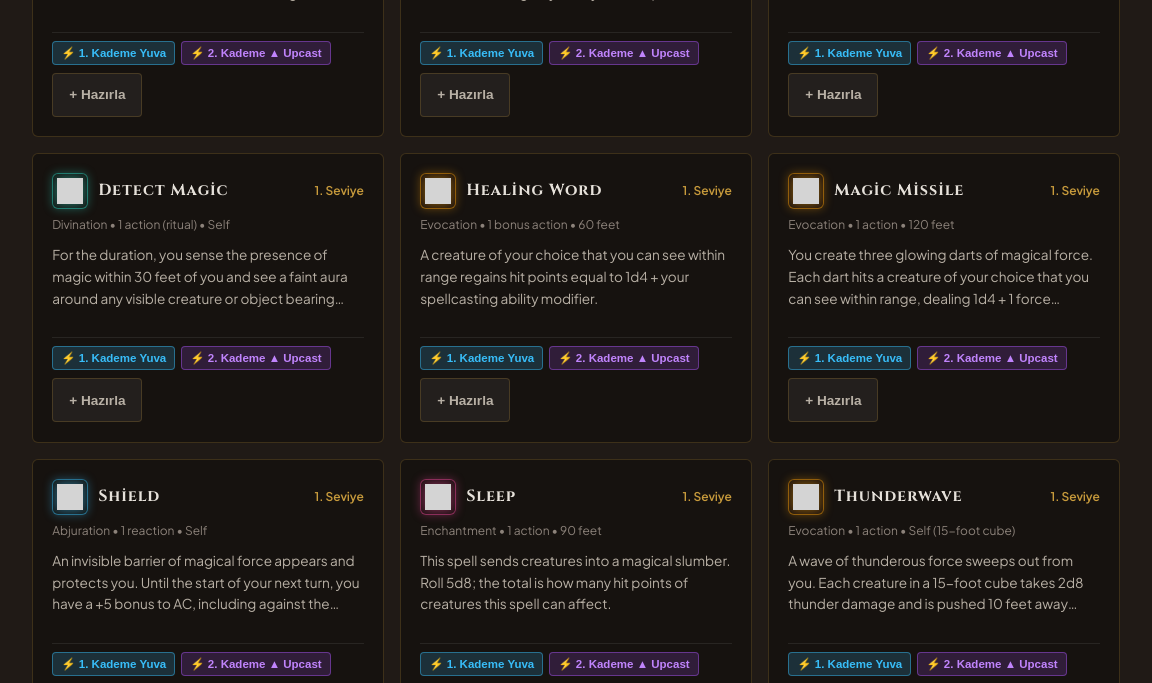
Spellbook Component › allows casting spells with available spell slot and expends the slot
(page scrolled)
Expected: the button with id "btn-cast-magic-missile-tier-2" is shown, top-left (917, 346), bottom-right (1067, 370)
# Cast using tier 1
Click the button with id "btn-cast-magic-missile-tier-1". click: (850, 358)
box: top-left (788, 346), bottom-right (911, 370)
(page scrolled)
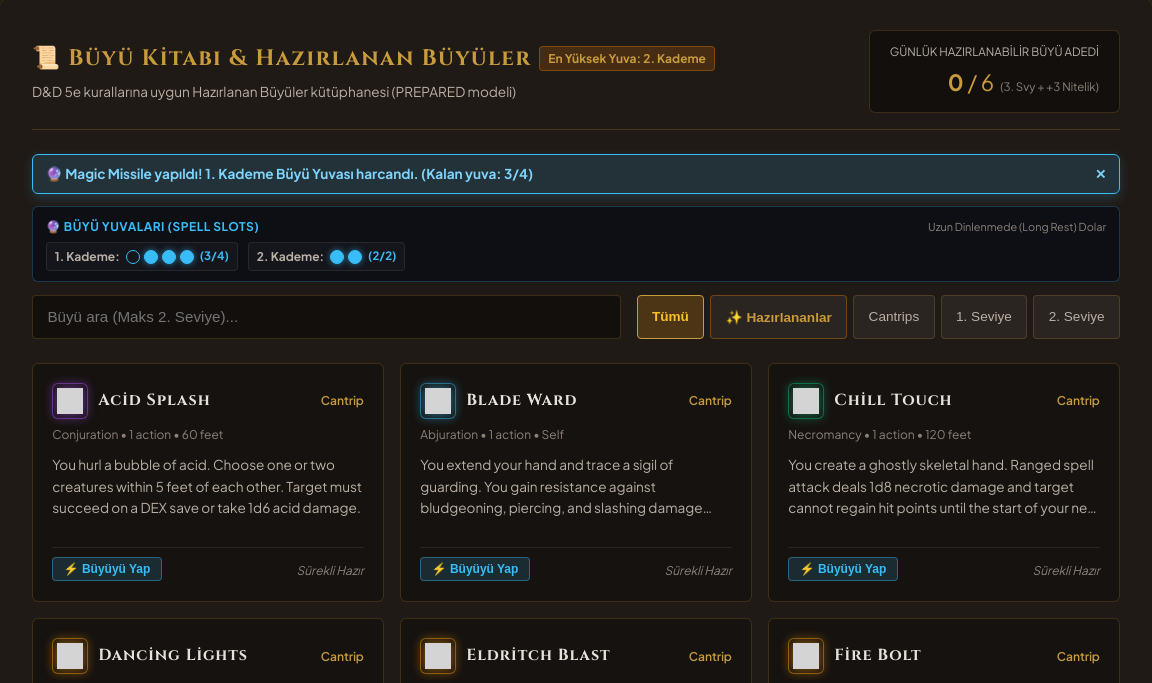
Expected: the text "Magic Missile yapıldı" is shown, top-left (46, 166), bottom-right (533, 182)
